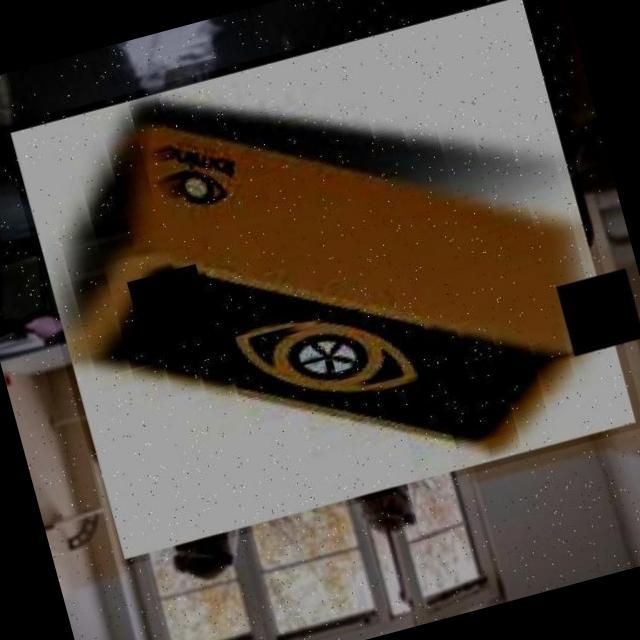box: (1, 0, 640, 567)
